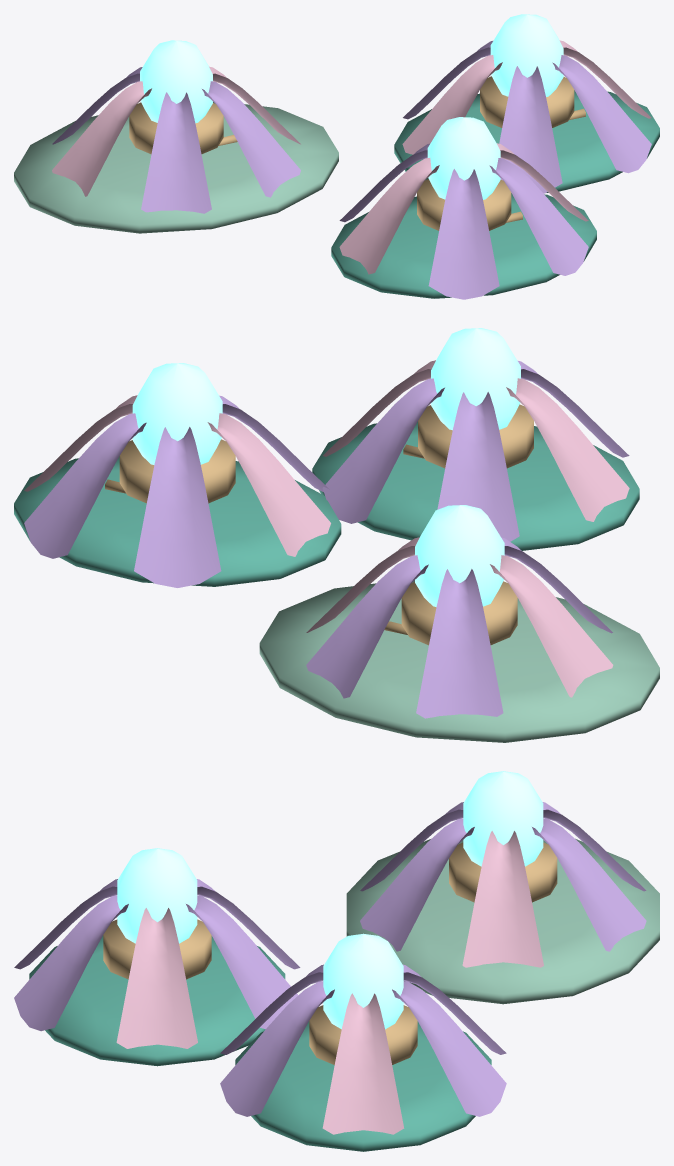
The model's file is pond_lotus_glow.glb.
3 renders of one model, top to bottom at view 1: azimuth 30°, elevation 25°; view 2: azimuth 150°, elevation 25°; view 3: azimuth 270°, elevation 25°, orthographic. The views are drawn at different scales.
Parts seen in each view (by area): view 1: POND_lotus_glow_lilypad_1, POND_lotus_glow_lilypad_2, POND_lotus_glow_flower_2_4, POND_lotus_glow_flower_1_4, POND_lotus_glow_lilypad_0, POND_lotus_glow_flower_0_4, POND_lotus_glow_lumen_2, POND_lotus_glow_lumen_0, POND_lotus_glow_lumen_1, POND_lotus_glow_flower_0_5, POND_lotus_glow_flower_2_5, POND_lotus_glow_flower_2_3 (+12 smaller); view 2: POND_lotus_glow_lilypad_1, POND_lotus_glow_lilypad_0, POND_lotus_glow_lilypad_2, POND_lotus_glow_flower_0_2, POND_lotus_glow_flower_1_2, POND_lotus_glow_flower_2_2, POND_lotus_glow_lumen_0, POND_lotus_glow_lumen_1, POND_lotus_glow_lumen_2, POND_lotus_glow_flower_0_1, POND_lotus_glow_flower_2_1, POND_lotus_glow_flower_0_3 (+12 smaller); view 3: POND_lotus_glow_lilypad_1, POND_lotus_glow_lilypad_0, POND_lotus_glow_lilypad_2, POND_lotus_glow_flower_0_0, POND_lotus_glow_flower_2_0, POND_lotus_glow_flower_1_0, POND_lotus_glow_lumen_0, POND_lotus_glow_lumen_1, POND_lotus_glow_lumen_2, POND_lotus_glow_flower_2_5, POND_lotus_glow_flower_0_5, POND_lotus_glow_flower_0_1 (+12 smaller).
Boxes of the visible parts, left/top/right/bottom form: POND_lotus_glow_lilypad_1: left=14, top=101, right=338, bottom=233; POND_lotus_glow_lilypad_2: left=331, top=193, right=596, bottom=298; POND_lotus_glow_flower_2_4: left=428, top=169, right=499, bottom=299; POND_lotus_glow_flower_1_4: left=141, top=92, right=211, bottom=213; POND_lotus_glow_lilypad_0: left=394, top=90, right=659, bottom=192; POND_lotus_glow_flower_0_4: left=499, top=66, right=562, bottom=193; POND_lotus_glow_lumen_2: left=427, top=117, right=500, bottom=199; POND_lotus_glow_lumen_0: left=490, top=14, right=563, bottom=96; POND_lotus_glow_lumen_1: left=140, top=40, right=212, bottom=123; POND_lotus_glow_flower_0_5: left=552, top=55, right=651, bottom=173; POND_lotus_glow_flower_2_5: left=489, top=158, right=588, bottom=275; POND_lotus_glow_flower_2_3: left=339, top=158, right=439, bottom=274; POND_lotus_glow_lilypad_1: left=259, top=580, right=659, bottom=742; POND_lotus_glow_lilypad_0: left=14, top=456, right=341, bottom=586; POND_lotus_glow_lilypad_2: left=312, top=421, right=639, bottom=550; POND_lotus_glow_flower_0_2: left=134, top=427, right=221, bottom=587; POND_lotus_glow_flower_1_2: left=416, top=569, right=503, bottom=718; POND_lotus_glow_flower_2_2: left=437, top=392, right=519, bottom=541; POND_lotus_glow_lumen_0: left=132, top=363, right=222, bottom=464; POND_lotus_glow_lumen_1: left=415, top=505, right=504, bottom=606; POND_lotus_glow_lumen_2: left=431, top=328, right=520, bottom=430; POND_lotus_glow_flower_0_1: left=24, top=413, right=146, bottom=558; POND_lotus_glow_flower_2_1: left=322, top=378, right=444, bottom=523; POND_lotus_glow_flower_0_3: left=207, top=413, right=330, bottom=556; POND_lotus_glow_lilypad_1: left=346, top=838, right=659, bottom=1004; POND_lotus_glow_lilypad_0: left=235, top=1021, right=491, bottom=1151; POND_lotus_glow_lilypad_2: left=29, top=935, right=285, bottom=1066; POND_lotus_glow_flower_0_0: left=322, top=993, right=404, bottom=1134; POND_lotus_glow_flower_2_0: left=116, top=908, right=197, bottom=1048; POND_lotus_glow_flower_1_0: left=462, top=831, right=543, bottom=967; POND_lotus_glow_lumen_0: left=323, top=933, right=403, bottom=1029; POND_lotus_glow_lumen_1: left=463, top=771, right=543, bottom=866; POND_lotus_glow_lumen_2: left=117, top=848, right=197, bottom=943; POND_lotus_glow_flower_2_5: left=14, top=895, right=128, bottom=1031; POND_lotus_glow_flower_0_5: left=220, top=981, right=334, bottom=1116; POND_lotus_glow_flower_0_1: left=392, top=981, right=506, bottom=1116.
Bounding box in the file's own units: 1.5 × 0.361 × 1.31.
